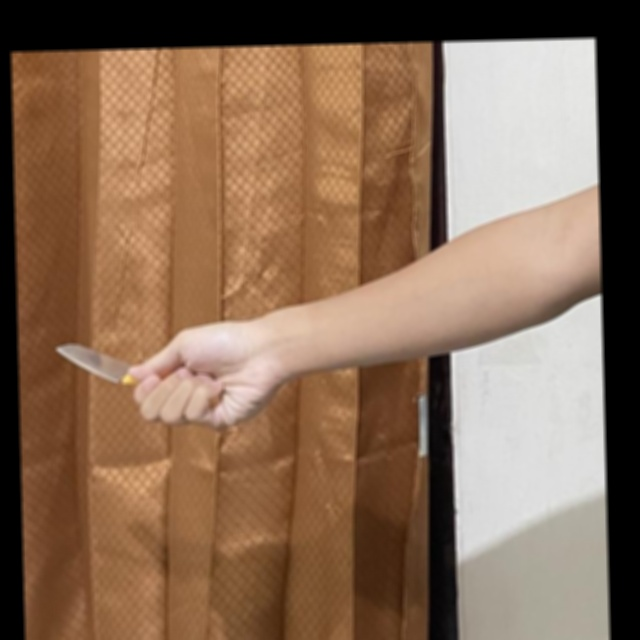Sharp-Object: (54, 338, 224, 414)
